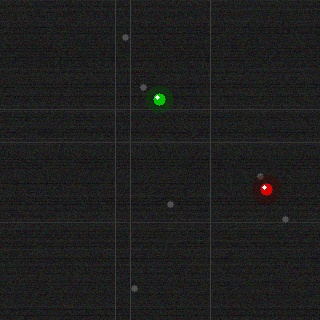green_normal: (151, 91, 167, 107)
red_fault: (258, 181, 274, 197)
